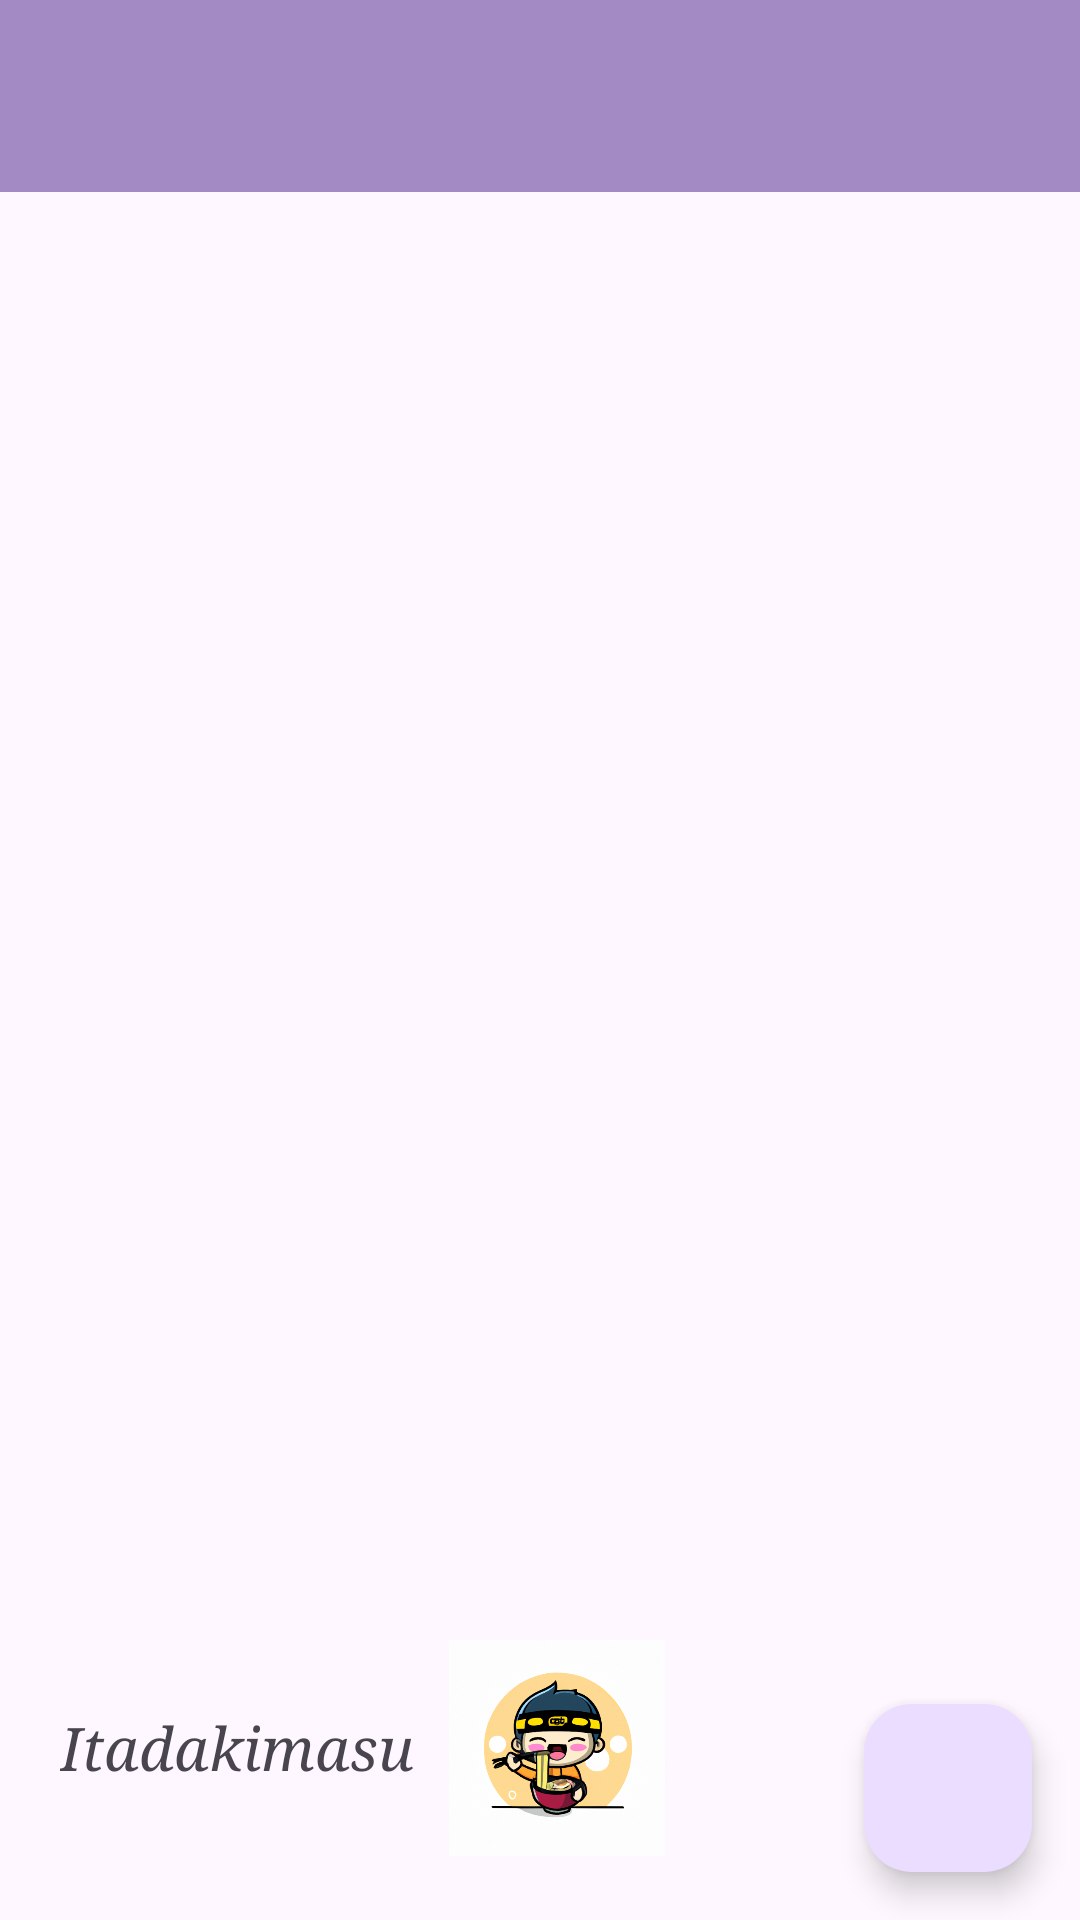

Where icons sit on this 1080px×1920px app screen, as (x1, y1, x2, y2):
ramen: (484, 1672, 632, 1817)
